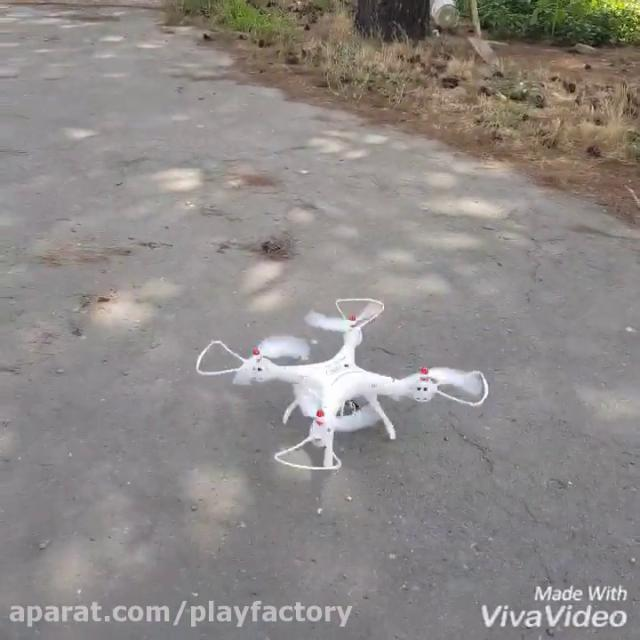drone: (191, 295, 492, 479)
